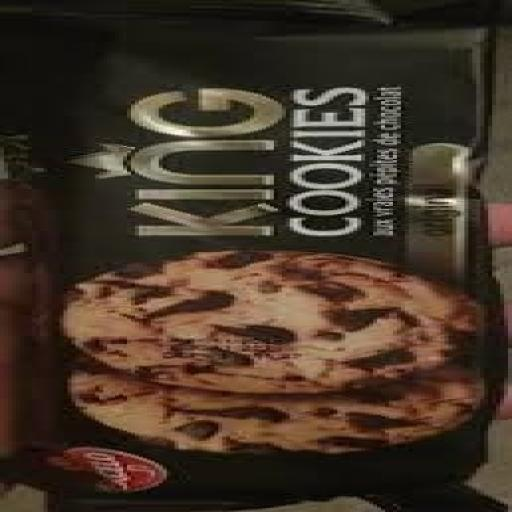king-cooking: (4, 4, 512, 510)
